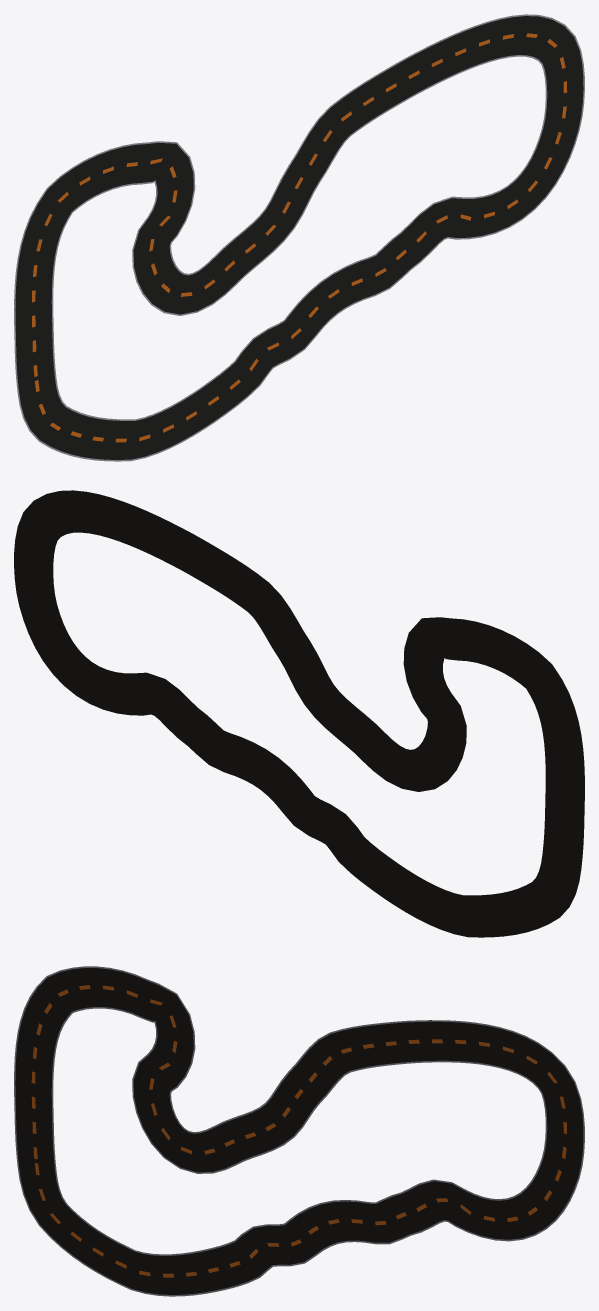
The model's file is track.obj.
The picture shows the model from 3 angles, top to bottom: view 1: azimuth 30°, elevation 25°; view 2: azimuth 150°, elevation 25°; view 3: azimuth 330°, elevation 25°; orthographic projection.
Bounding box in the file's own units: 15.51 × 9.17 × 0.002.
